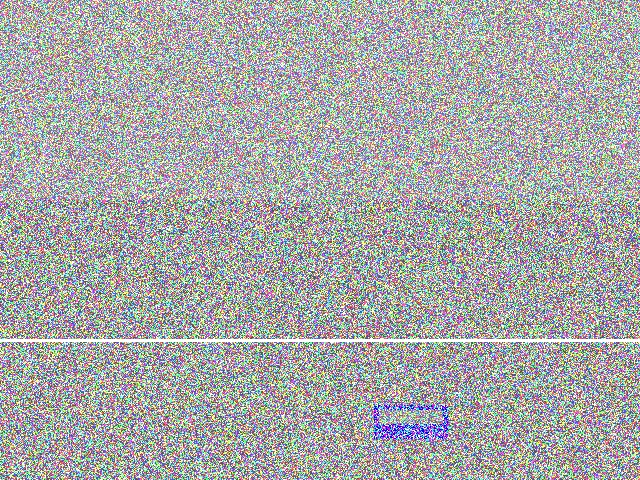bus: (64, 147, 175, 226)
car: (32, 289, 125, 366)
